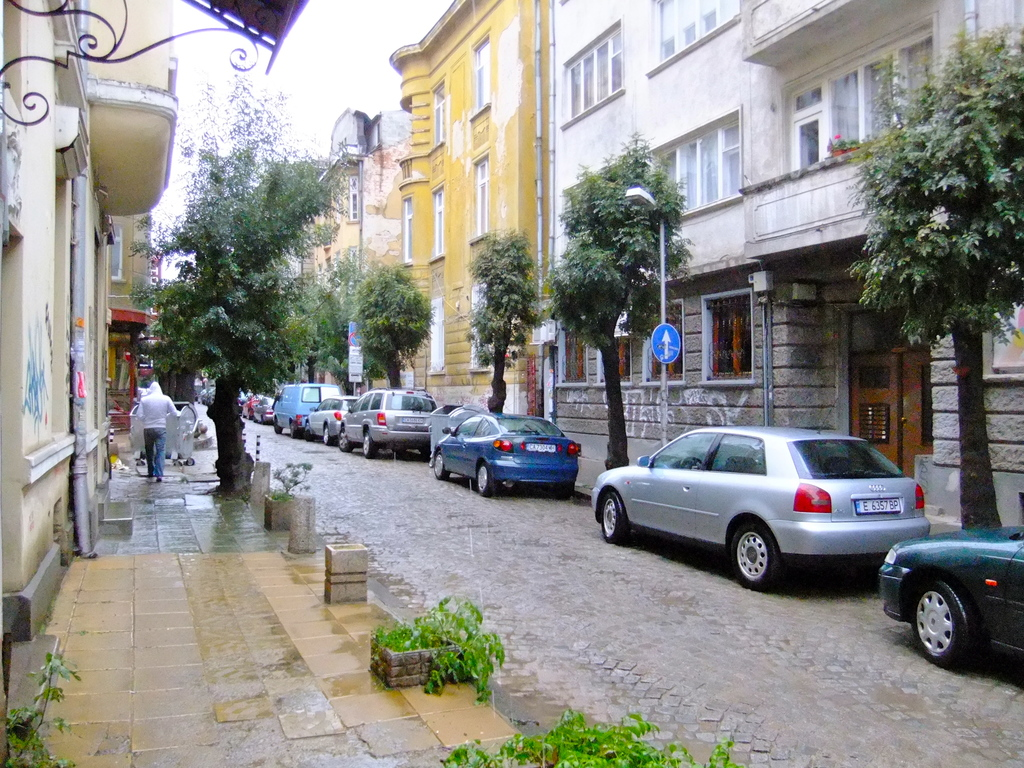Car: (589, 425, 931, 588), (885, 523, 1023, 673), (432, 410, 584, 494), (336, 390, 437, 457), (298, 394, 360, 440), (202, 391, 272, 424)
